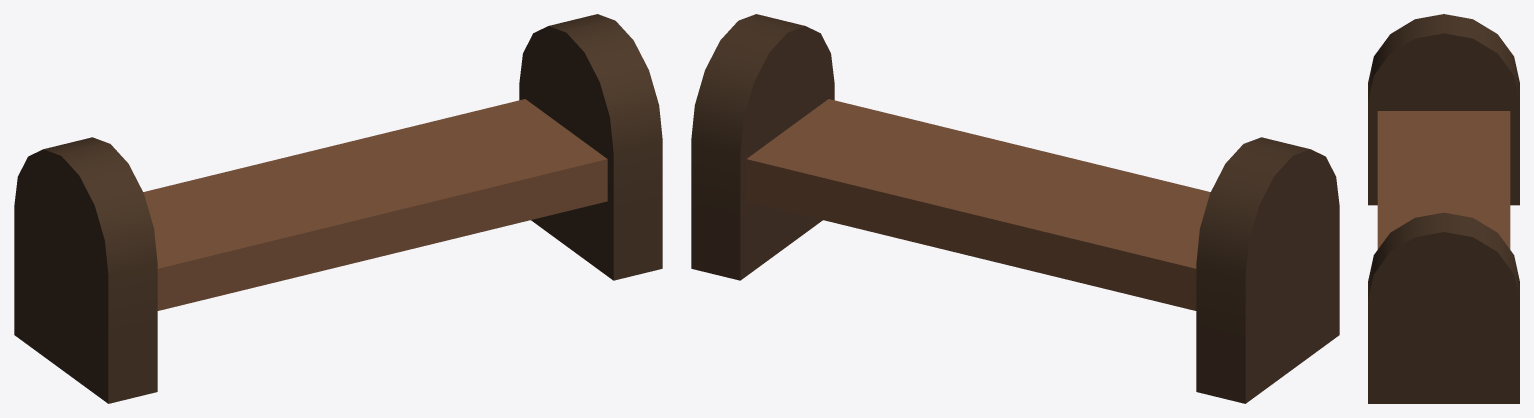
File: Bench.fbx
3 views of the same model, side by side, from view 1: azimuth 30°, elevation 25°; view 2: azimuth 150°, elevation 25°; view 3: azimuth 270°, elevation 25° (orthographic). The views are drawn at different scales.
Visible parts, largest first — view 1: Bench; view 2: Bench; view 3: Bench.
Part boxes in pixels (left/top/right/bottom): Bench: left=14, top=14, right=662, bottom=403; Bench: left=691, top=14, right=1339, bottom=403; Bench: left=1368, top=14, right=1519, bottom=403.
Size of the model in its own units: 227 by 83.75 by 67.
